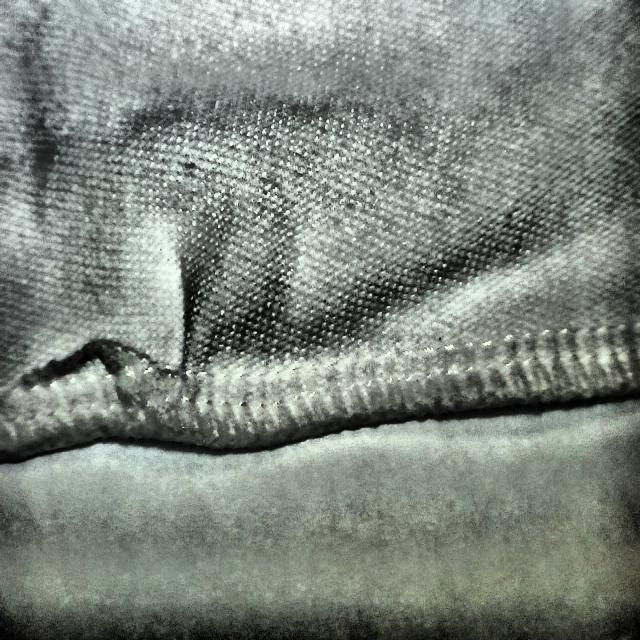seam: (30, 273, 226, 446)
